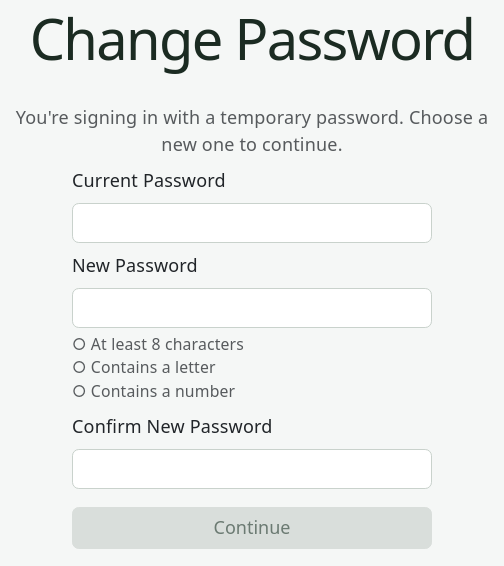
it: ChangePassword (UI-02, BR-10) › Continue is disabled until all three password rules and the confirm match are satisfied
Expected: the button "Continue" is disabled, top-left (72, 507), bottom-right (432, 549)
Type "short1" into the password field labelled "New Password" at (252, 308), box top-left (72, 288), bottom-right (432, 328)
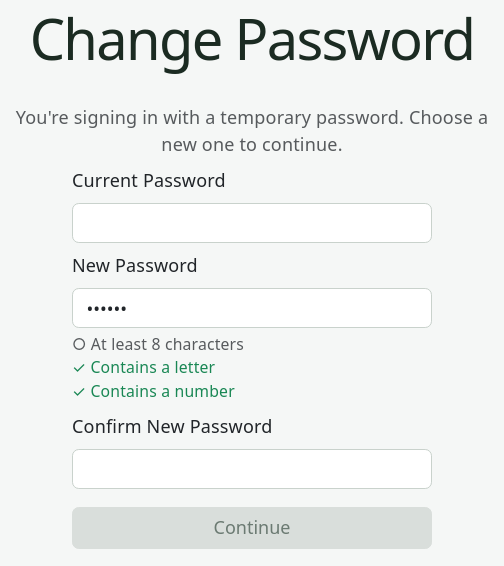
Expected: the button "Continue" is disabled, top-left (72, 507), bottom-right (432, 549)
Type "longenough" into the password field labelled "New Password" at (252, 308), box top-left (72, 288), bottom-right (432, 328)
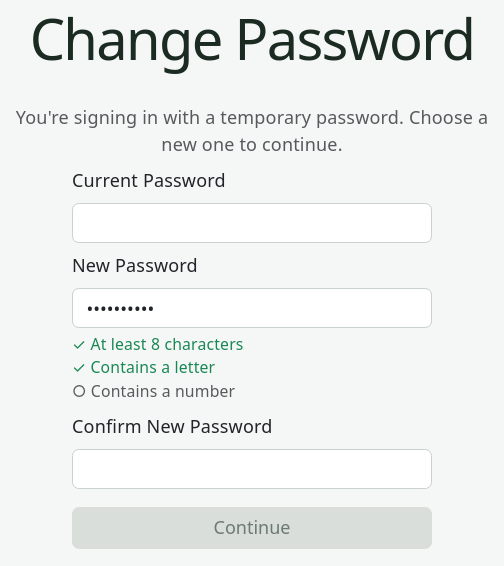
Expected: the button "Continue" is disabled, top-left (72, 507), bottom-right (432, 549)
Type "longenough1" into the password field labelled "New Password" at (252, 308), box top-left (72, 288), bottom-right (432, 328)
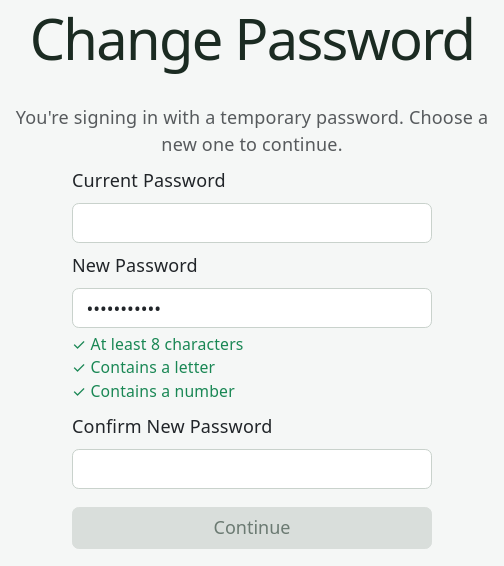
Expected: the button "Continue" is disabled, top-left (72, 507), bottom-right (432, 549)
Type "different1" into the password field labelled "Confirm New Password" at (252, 469), box top-left (72, 449), bottom-right (432, 489)
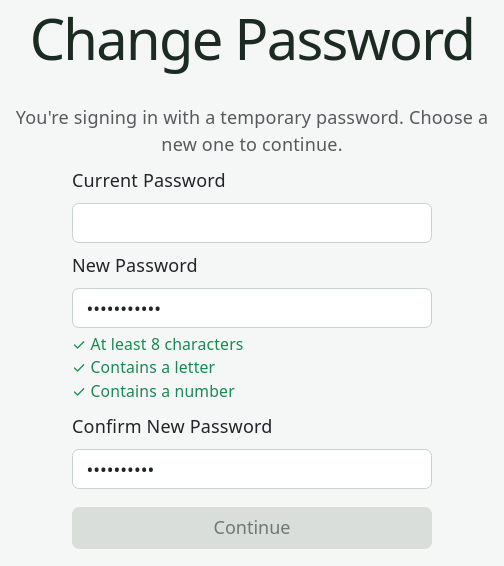
Expected: the button "Continue" is disabled, top-left (72, 507), bottom-right (432, 549)
Type "longenough1" into the password field labelled "Confirm New Password" at (252, 469), box top-left (72, 449), bottom-right (432, 489)
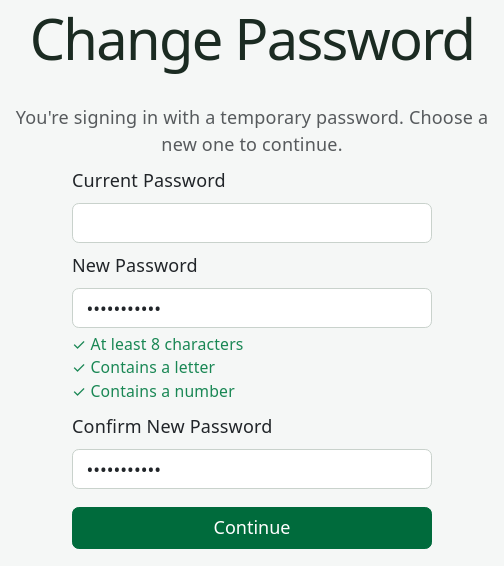
Expected: the button "Continue" is enabled, top-left (72, 507), bottom-right (432, 549)
